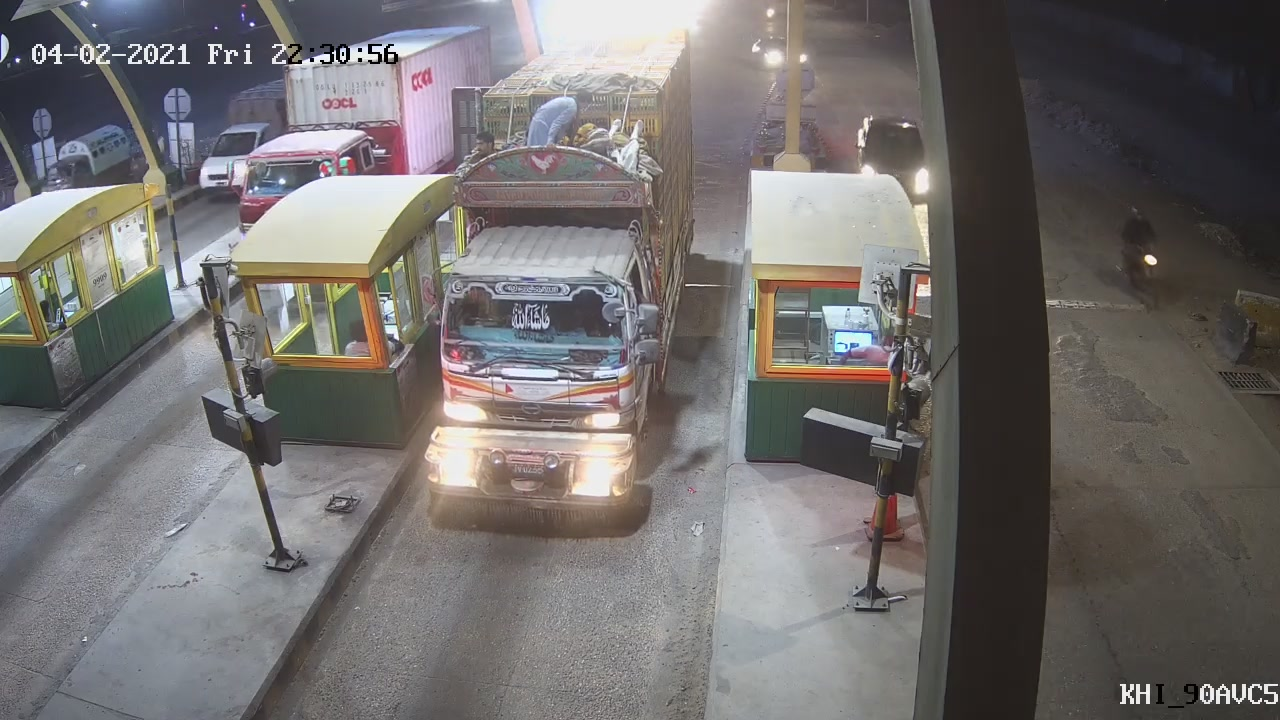F5: (403, 155, 690, 529)
